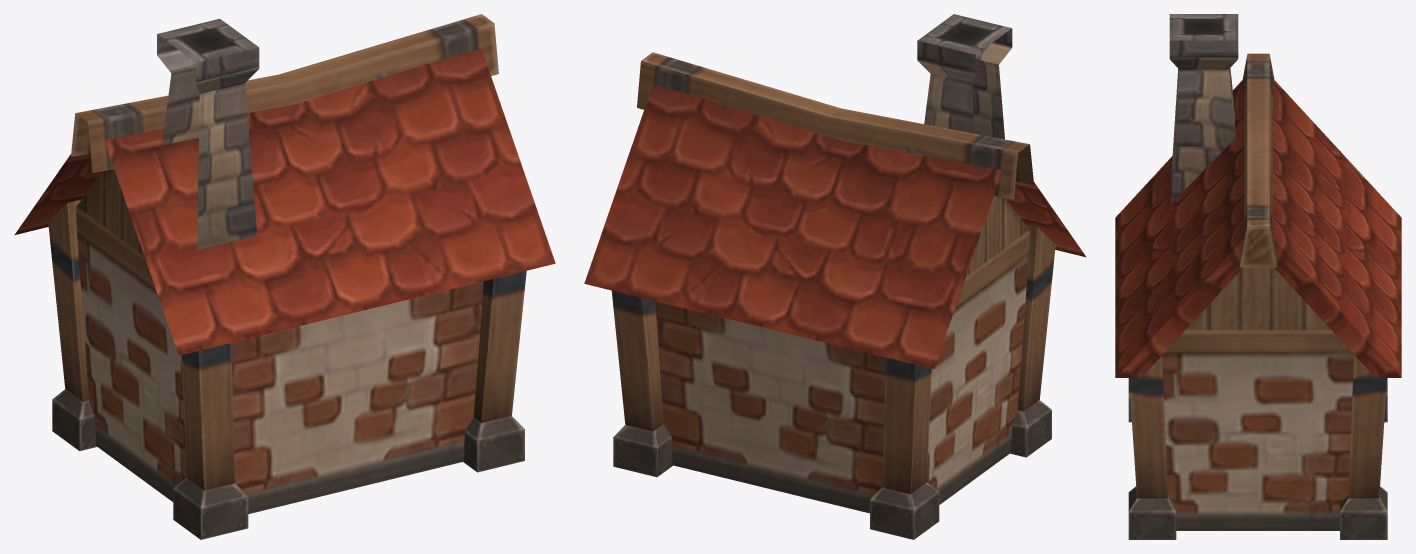
File: paran_house_2.FBX
3 renders of one model, left to right at view 1: azimuth 30°, elevation 25°; view 2: azimuth 150°, elevation 25°; view 3: azimuth 270°, elevation 25°, orthographic. The views are drawn at different scales.
Parts seen in each view (by area): view 1: Object133; view 2: Object133; view 3: Object133.
Part boxes in pixels (<box>): Object133: <box>14,14,555,539</box>; Object133: <box>584,14,1086,539</box>; Object133: <box>1115,14,1401,539</box>.
Bounding box in the file's own units: 130 × 91.32 × 139.
